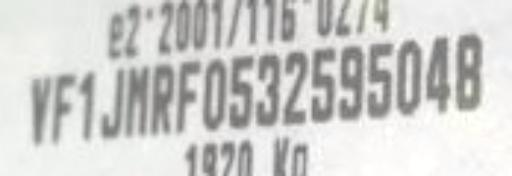letter: (450, 29, 490, 116), (423, 29, 455, 119), (394, 32, 426, 119), (365, 35, 397, 122), (306, 41, 338, 128), (335, 41, 367, 128), (279, 43, 311, 127), (94, 64, 128, 142), (226, 49, 256, 131), (252, 49, 282, 131), (174, 55, 202, 136), (200, 55, 228, 136), (150, 58, 176, 142), (123, 61, 149, 145), (50, 67, 78, 145), (26, 73, 52, 151), (76, 67, 100, 145)
